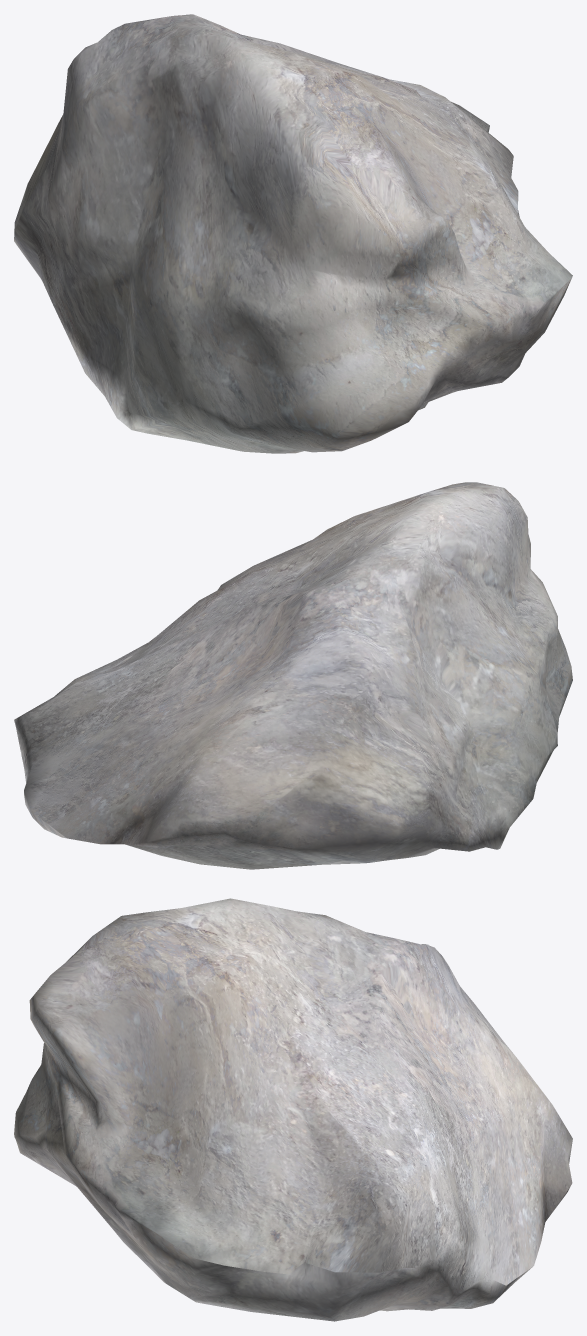
The model's file is rock_00H_2k.fbx.
3 renders of one model, top to bottom at view 1: azimuth 30°, elevation 25°; view 2: azimuth 150°, elevation 25°; view 3: azimuth 270°, elevation 25°, orthographic. The views are drawn at different scales.
Visible parts, largest first — view 1: rock_00H_2k; view 2: rock_00H_2k; view 3: rock_00H_2k.
Part boxes in pixels (<box>): rock_00H_2k: <box>14,14,572,453</box>; rock_00H_2k: <box>14,482,572,869</box>; rock_00H_2k: <box>14,898,572,1321</box>.
Bounding box in the file's own units: 124 × 97.64 × 152.
